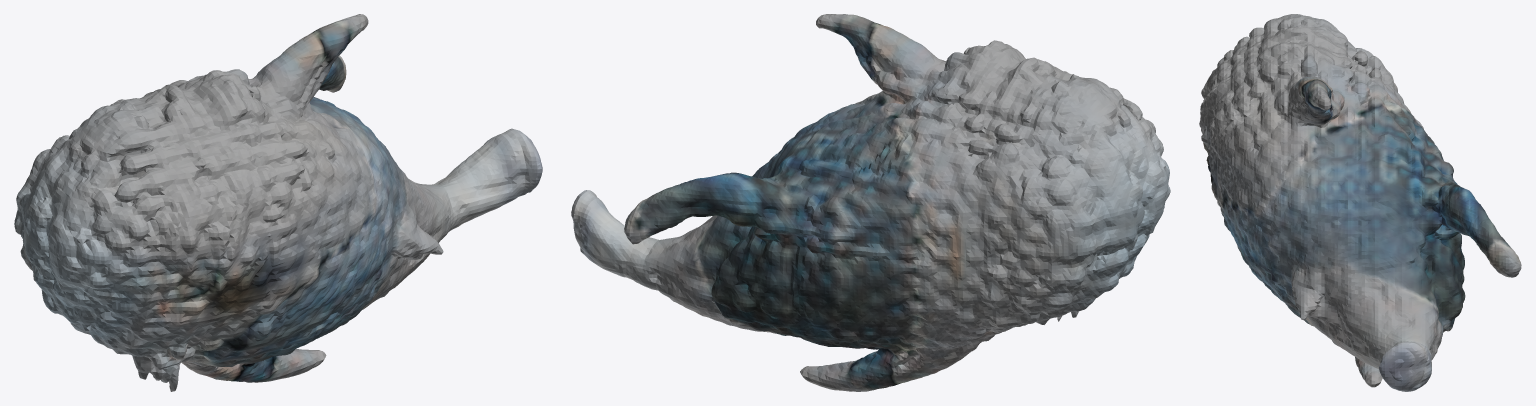
The model's file is ancistrus-cirrhosus.glb.
3 renders of one model, left to right at view 1: azimuth 30°, elevation 25°; view 2: azimuth 150°, elevation 25°; view 3: azimuth 270°, elevation 25°, orthographic. The views are drawn at different scales.
Visible parts, largest first — view 1: world; view 2: world; view 3: world.
Part boxes in pixels (box(x1,y1,x2,y2)): world: box(14, 14, 542, 391); world: box(571, 14, 1170, 391); world: box(1199, 14, 1521, 391).
Size of the model in its own units: 1.04 by 0.6722 by 0.6544.
